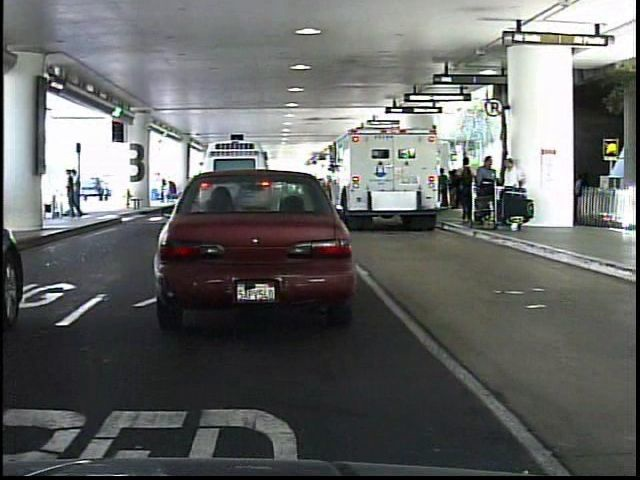person: (54, 166, 75, 223)
